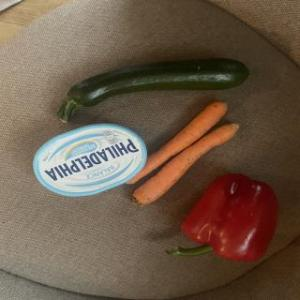bell_pepper: (165, 169, 279, 276)
carrot: (128, 118, 248, 209), (118, 98, 234, 190)
zucchini: (49, 50, 256, 123)
